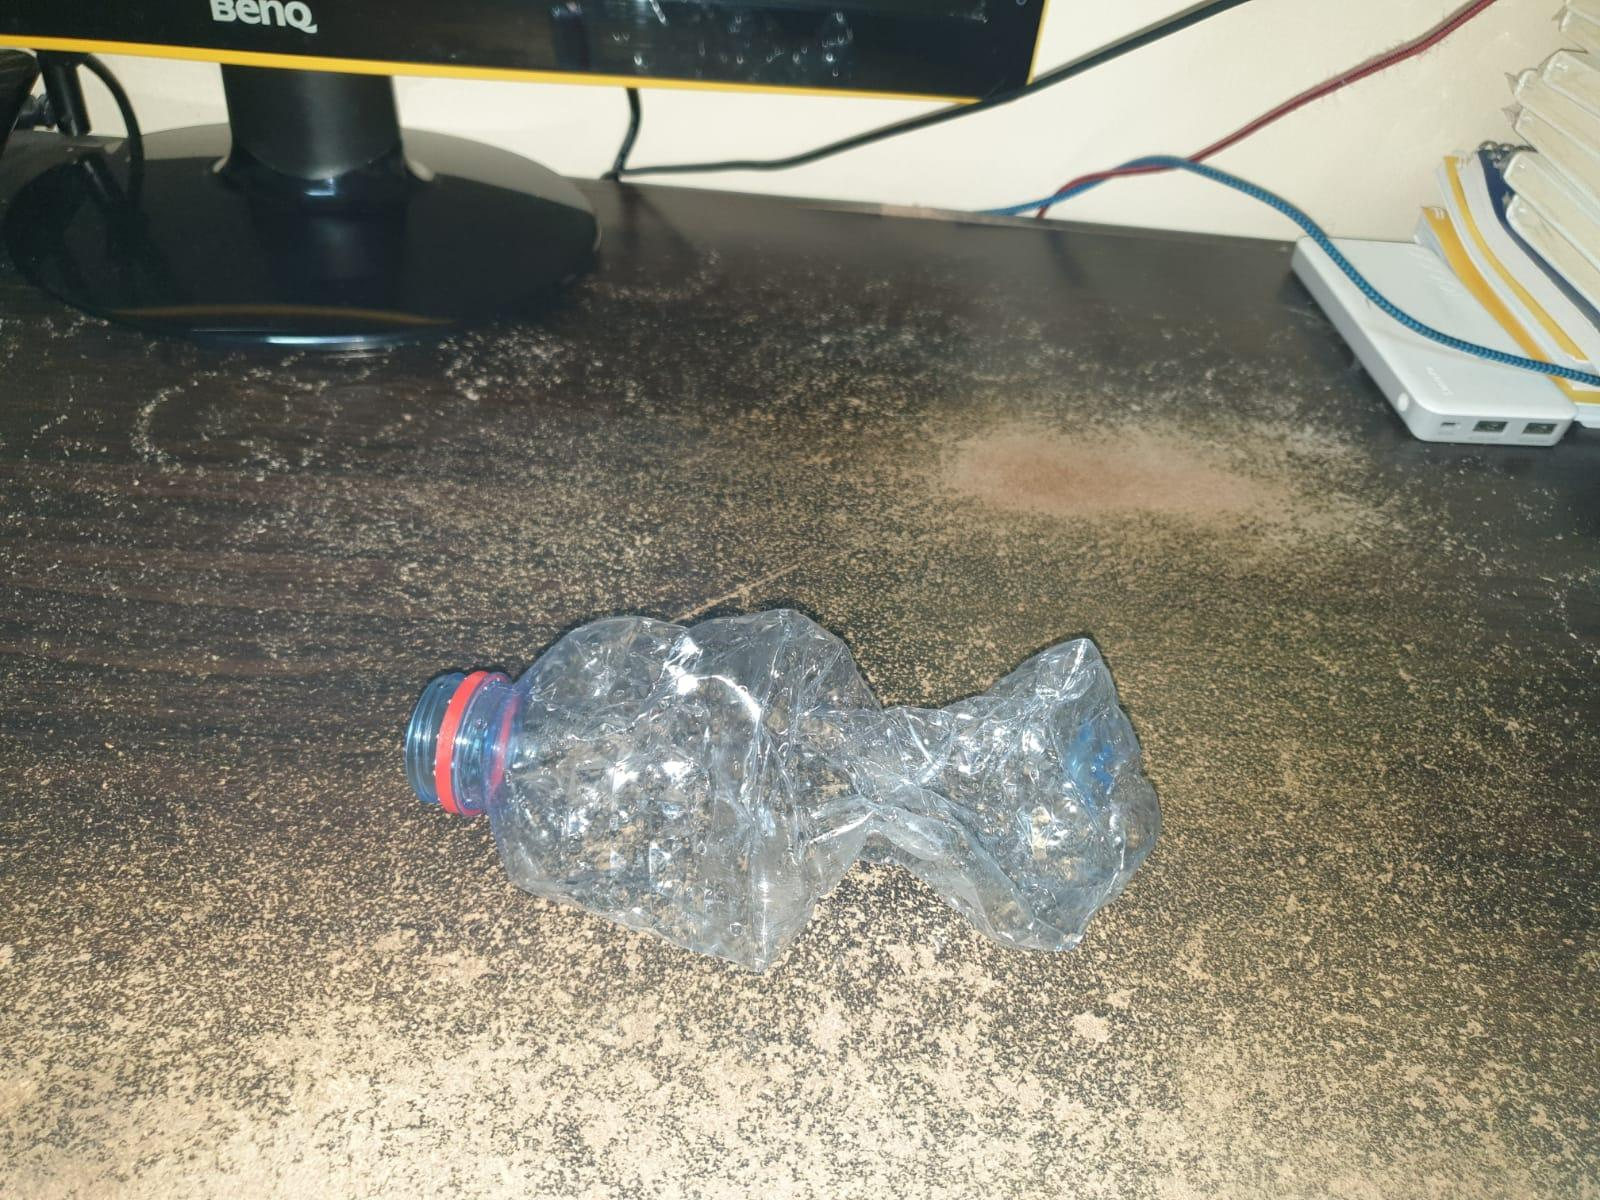bottle: (401, 609, 1168, 966)
